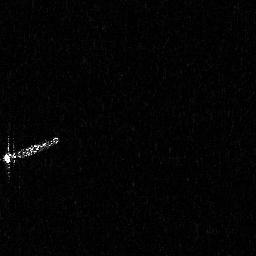ship: (1, 133, 62, 181)
